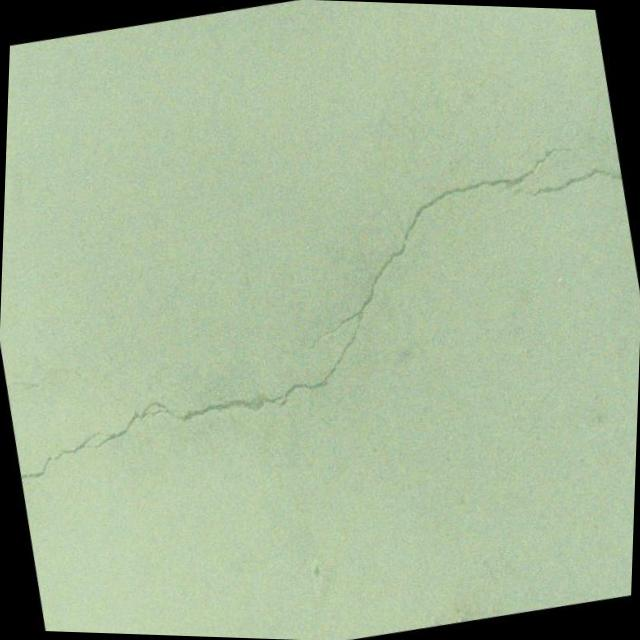crack: (0, 114, 640, 501)
